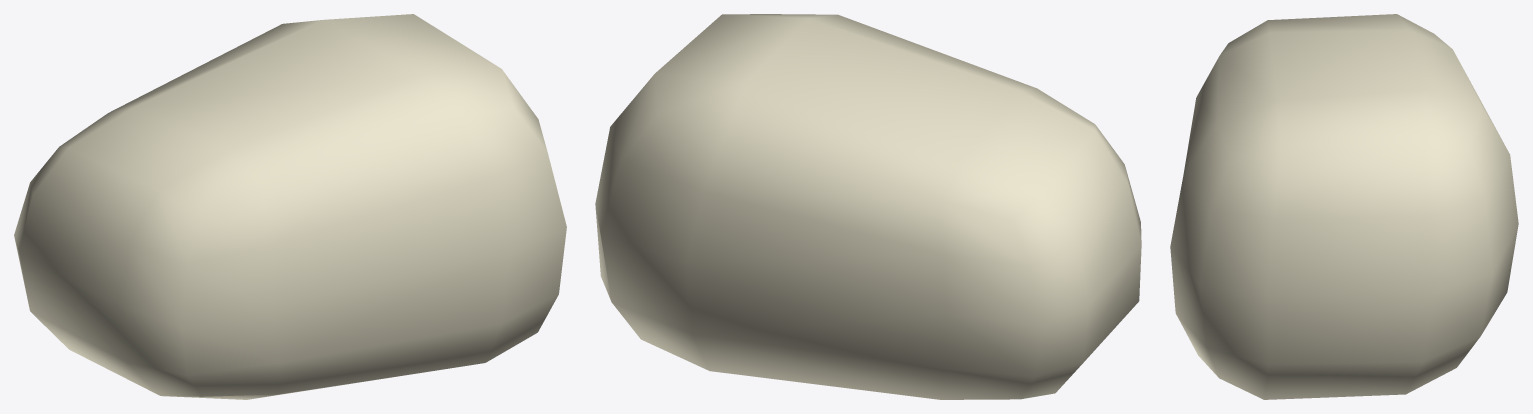
Rendered from ricecake_Item.fbx.
The picture shows the model from 3 angles, left to right: view 1: azimuth 30°, elevation 25°; view 2: azimuth 150°, elevation 25°; view 3: azimuth 270°, elevation 25°; orthographic projection. The views are drawn at different scales.
Visible parts, largest first — view 1: 떡1; view 2: 떡1; view 3: 떡1.
Part boxes in pixels (x1,y1,x2,y2): 떡1: (14, 14, 566, 399); 떡1: (595, 14, 1141, 399); 떡1: (1170, 14, 1518, 399).
Size of the model in its own units: 220 by 130 by 153.
